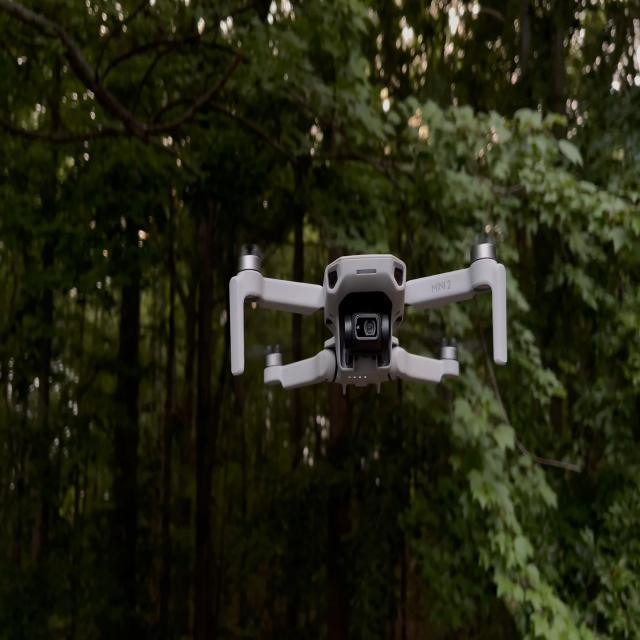Drone: (229, 236, 506, 416)
